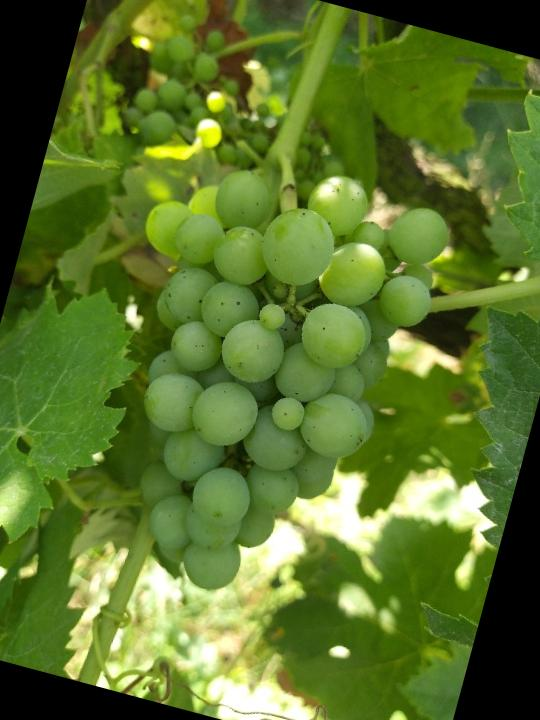grape: (58, 126, 458, 629)
